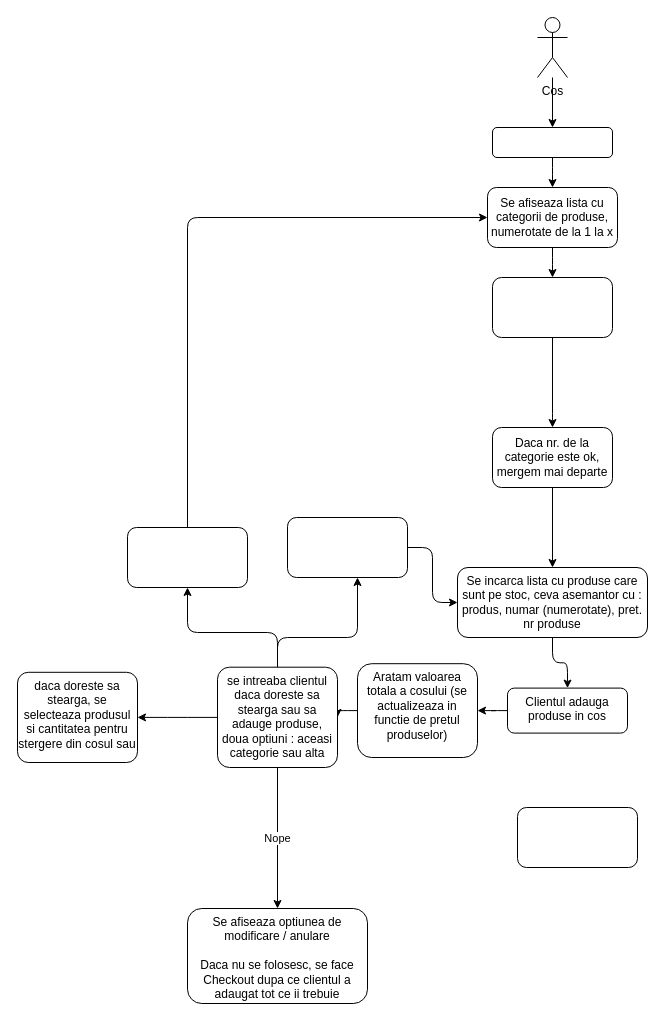
The diagram is 665 pixels wide and 1021 high, and some of its shapes have lost their labels. The shapes that lost their labels are listed below. From the top down, each one's centre as x and y in pixels, then its label:
point (552, 142): Acceseaza magazinul
point (552, 307): Clientul alege o categorie
point (187, 557): categorie diferita
point (347, 547): aceeasi categorie
point (577, 837): Ce alte verificari mai trebuie facute ?
